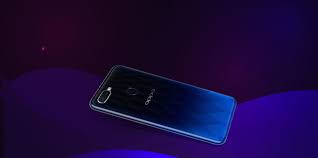oppo: (88, 62, 238, 148)
